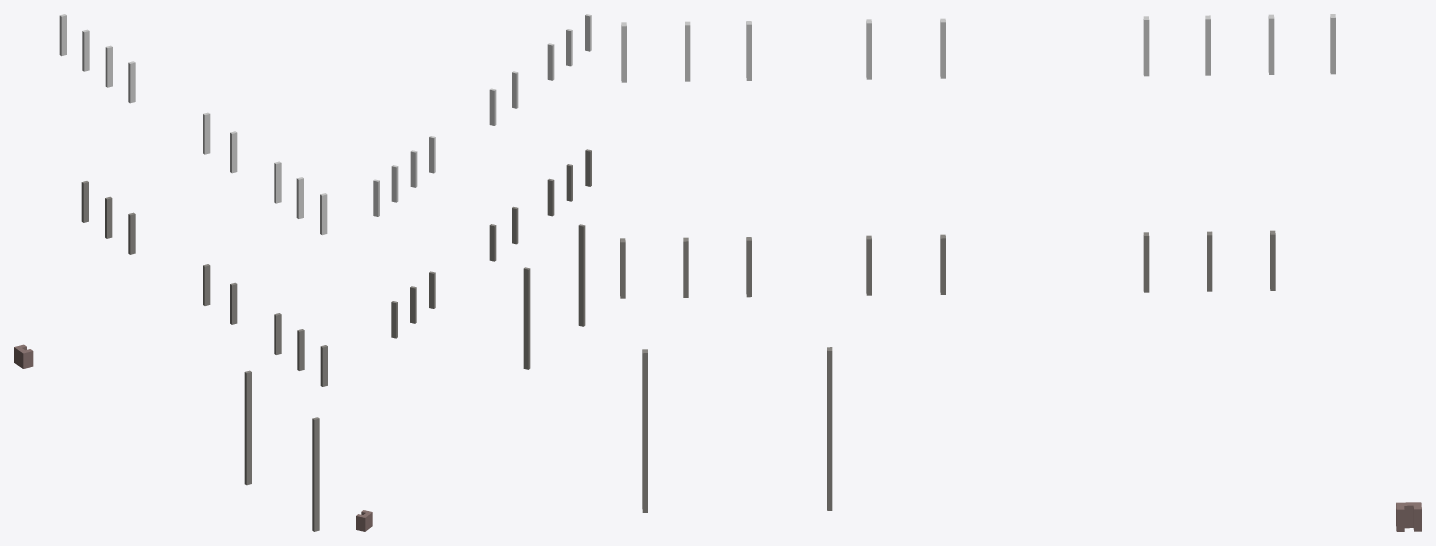
3 renders of one model, left to right at view 1: azimuth 30°, elevation 25°; view 2: azimuth 150°, elevation 25°; view 3: azimuth 270°, elevation 25°, orthographic. The views are drawn at different scales.
Bounding box in the file's own units: 0.6849 × 7.24 × 10.09.
